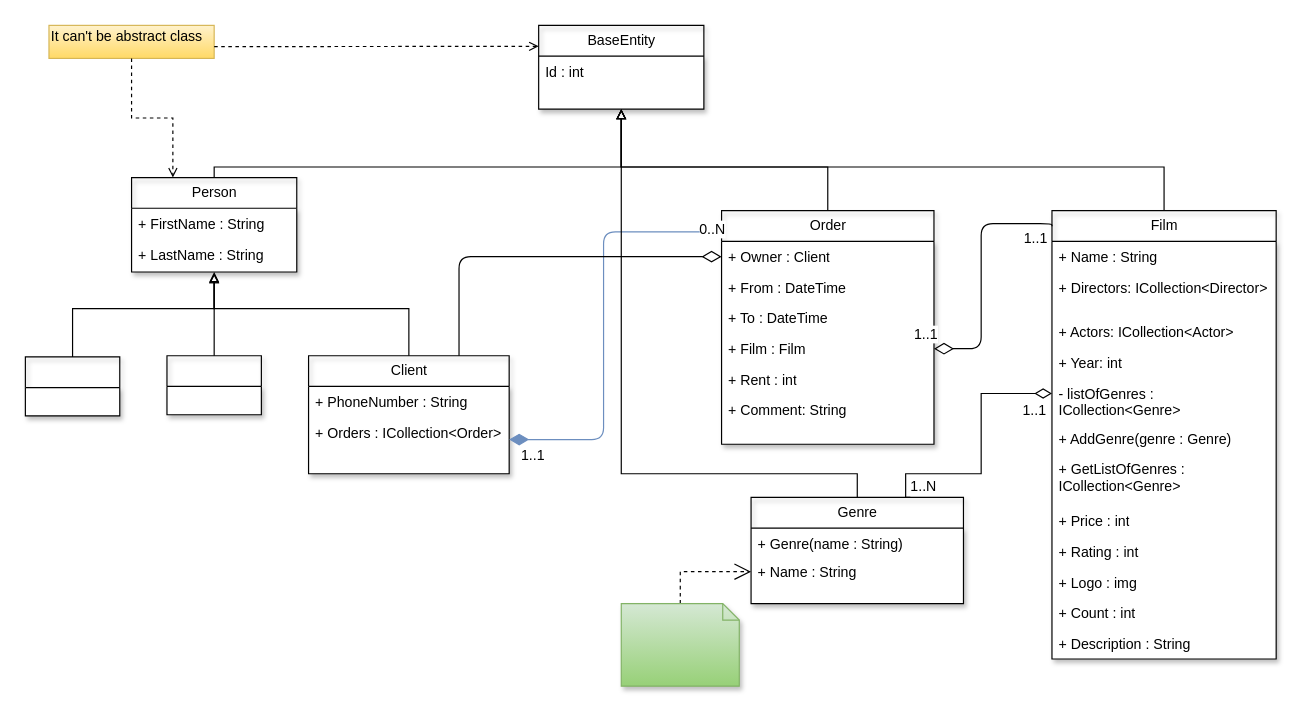
The diagram is 1304 pixels wide and 715 high, and some of its shapes have lost their labels. The centre of each missing label's shape, as x and y in pixels:
"Actor" goes at point 214,386.
"Director" goes at point 73,387.
"With private set. Use set in Genre constructor." goes at point 680,646.
